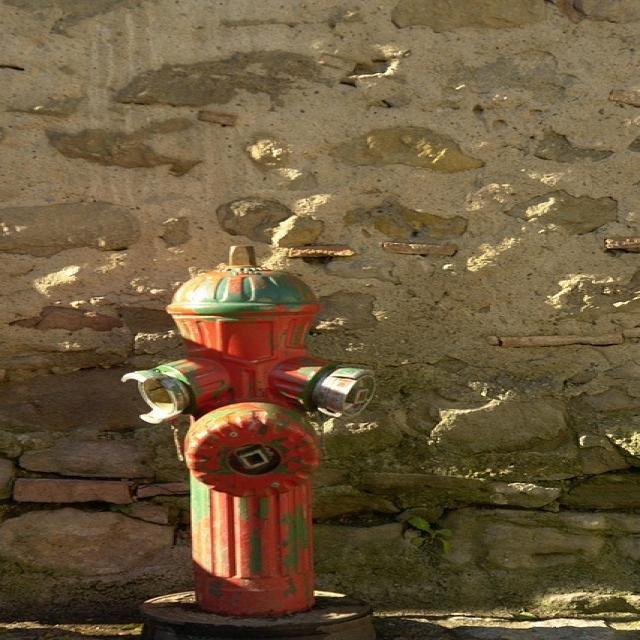fire_hydrant: (88, 261, 383, 620)
